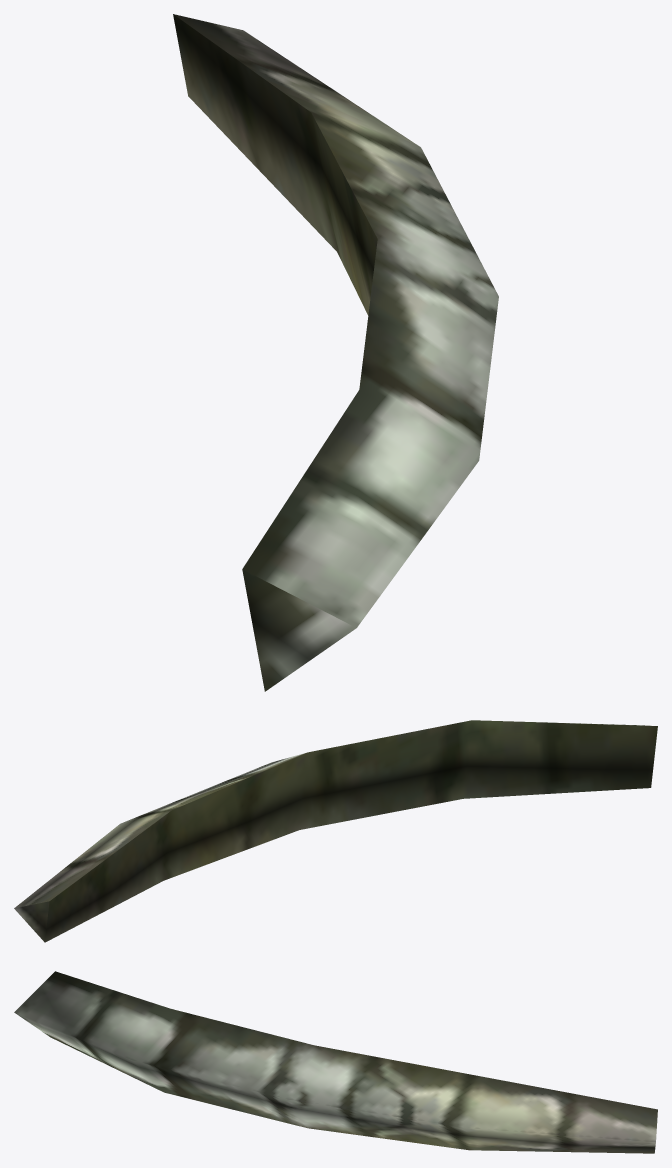
File: dragonspawn_bones_02.fbx
3 renders of one model, top to bottom at view 1: azimuth 30°, elevation 25°; view 2: azimuth 150°, elevation 25°; view 3: azimuth 270°, elevation 25°, orthographic. The views are drawn at different scales.
Visible parts, largest first — view 1: dragonspawn_bones_mat; view 2: dragonspawn_bones_mat; view 3: dragonspawn_bones_mat.
Part boxes in pixels (x1,y1,x2,y2): dragonspawn_bones_mat: [173, 14, 498, 691]; dragonspawn_bones_mat: [14, 720, 657, 942]; dragonspawn_bones_mat: [14, 971, 657, 1153].
Size of the model in its own units: 1.27 by 0.3396 by 2.36.
